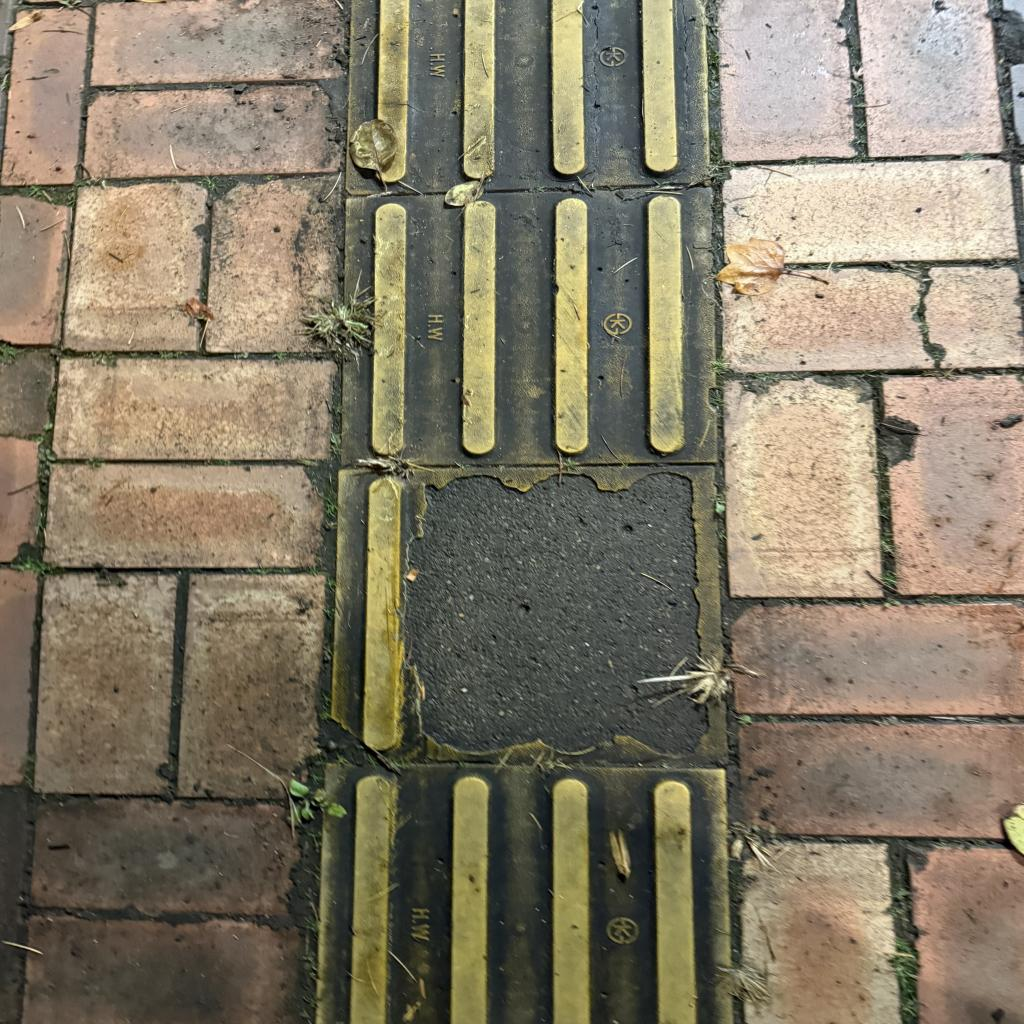Straight block broken: (332, 467, 731, 763)
Straight block normal: (342, 189, 714, 461)
